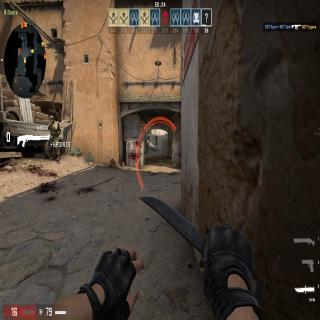CT-Body: (48, 115, 62, 161), (155, 134, 158, 145), (148, 134, 150, 145)
CT-Head: (50, 116, 54, 123), (156, 134, 158, 136), (149, 134, 150, 136)
